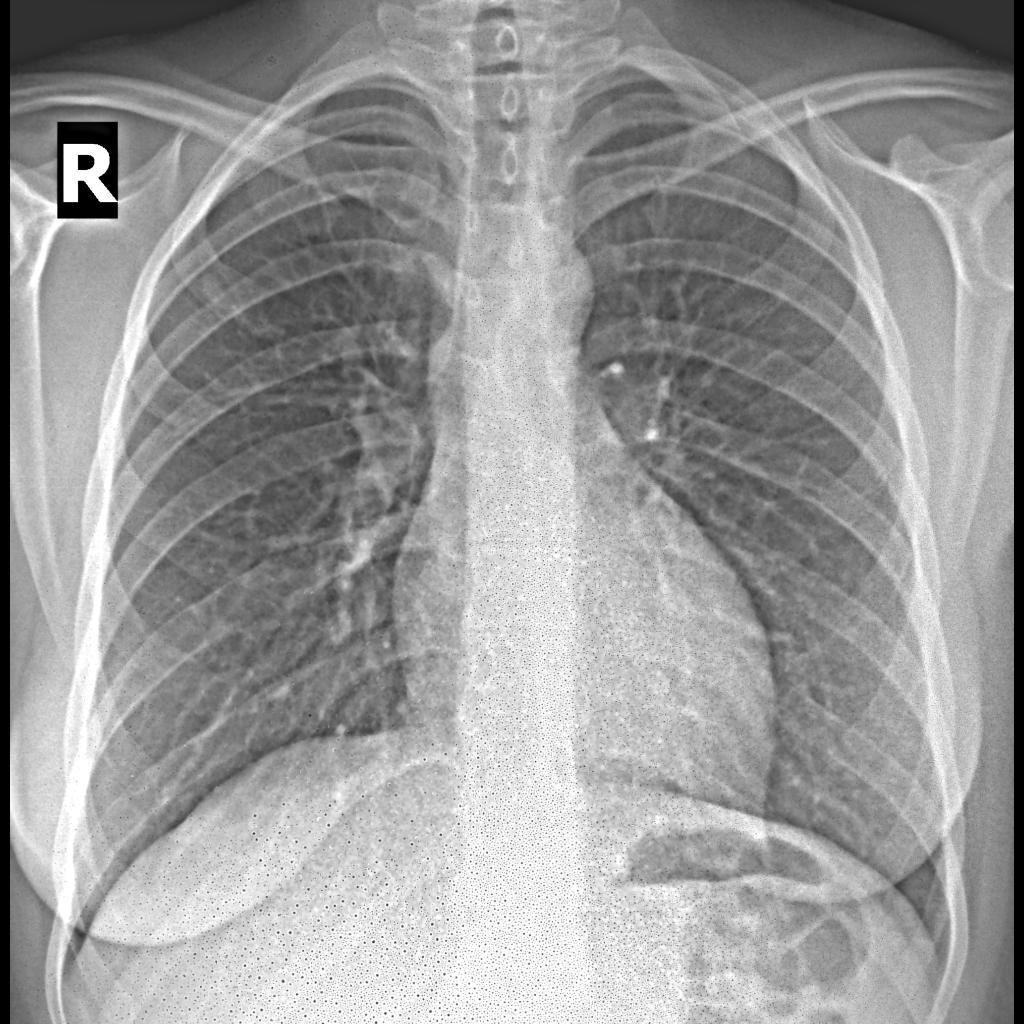Nodule: (192, 267, 232, 318)
